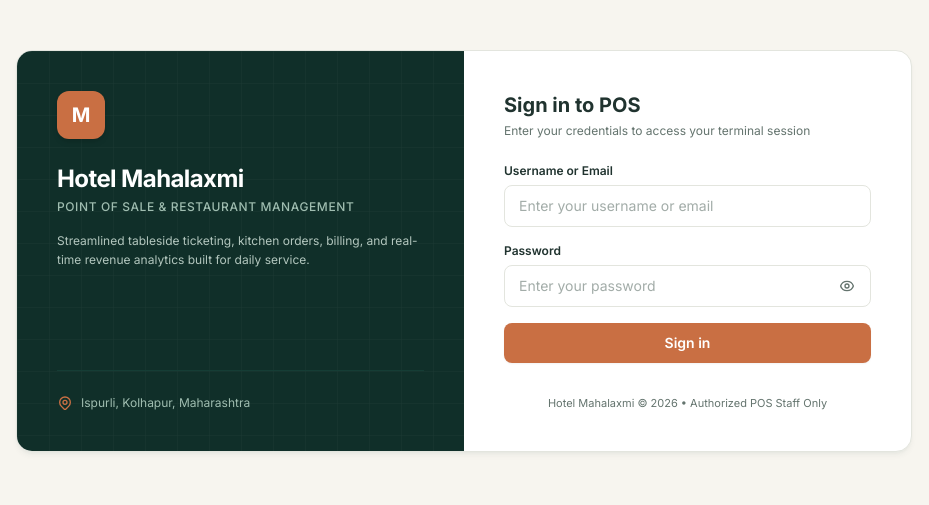
Test: LoginPage › shows API error message when login returns 401
This screenshot has width=929, height=505.
Type "test" into the field labelled "Username or Email" at (688, 206), box [504,185,871,227]
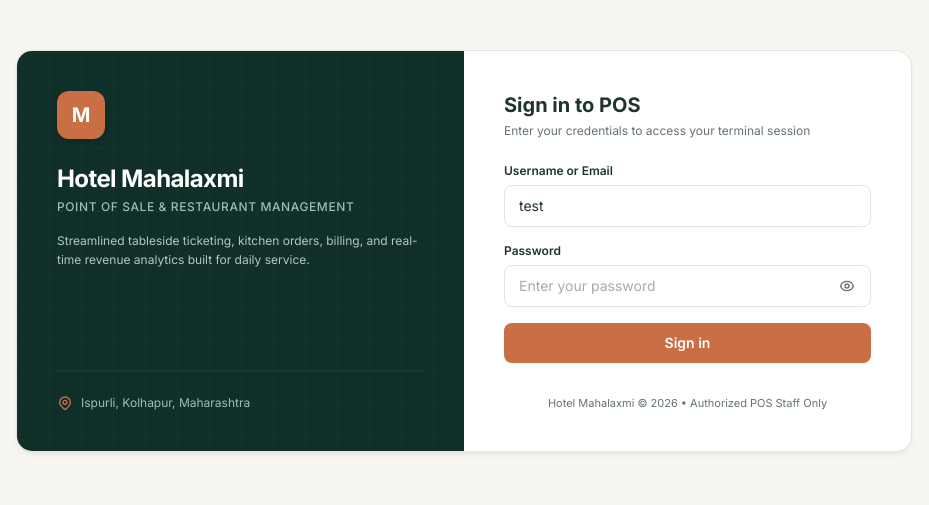
Type "password" into the password field with placeholder "Enter your password" at (688, 286), box [504,265,871,307]
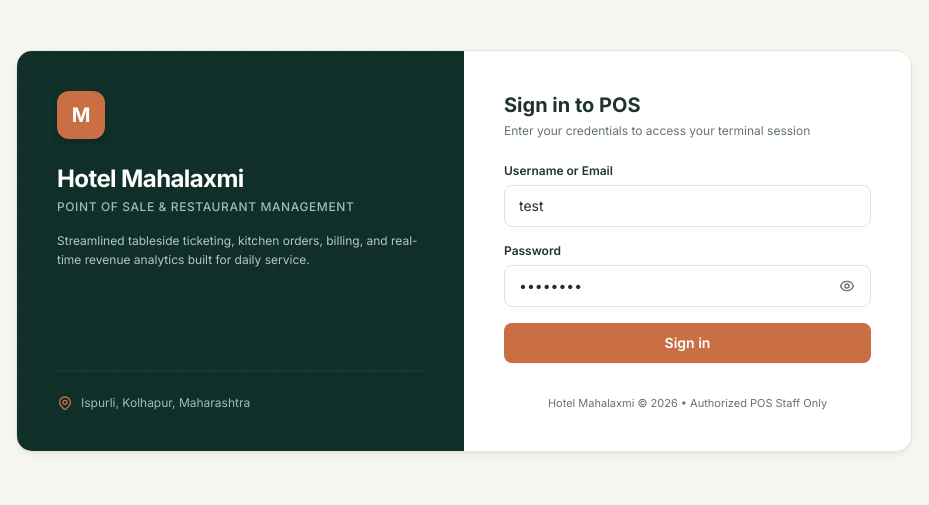
Click the button "Sign in" at (688, 343), box [504,323,871,363]
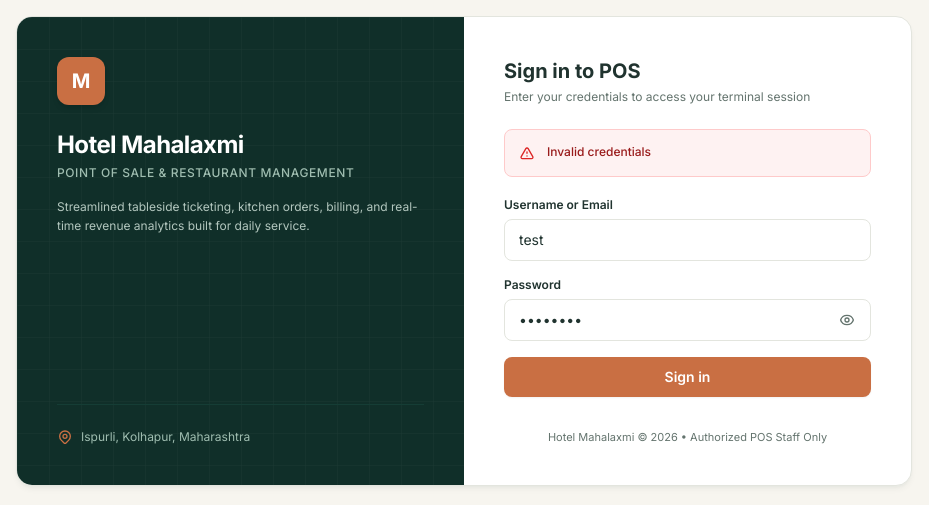
Expected: the text "Invalid credentials" is shown, [547,144,651,159]
